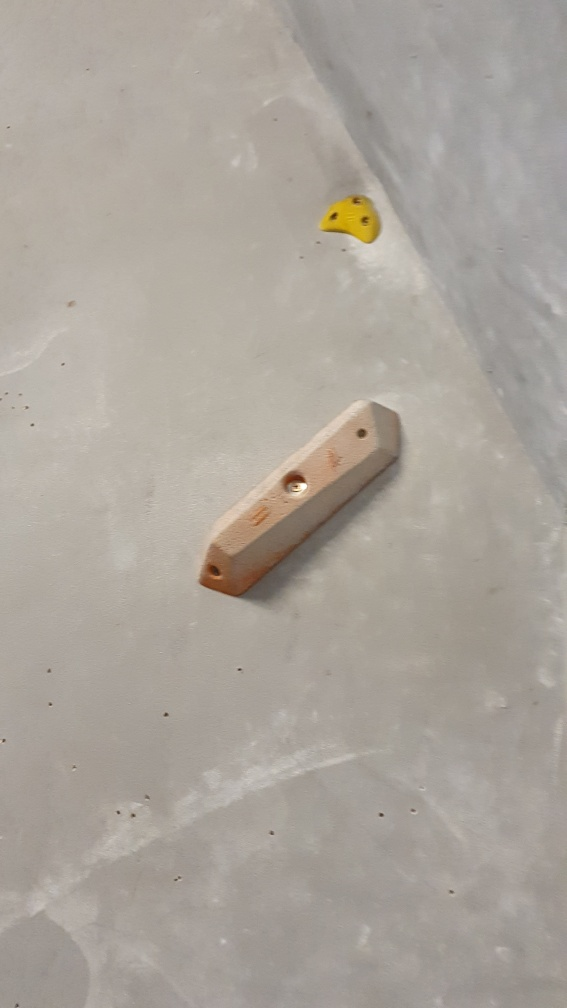Pinch: (195, 397, 403, 602)
